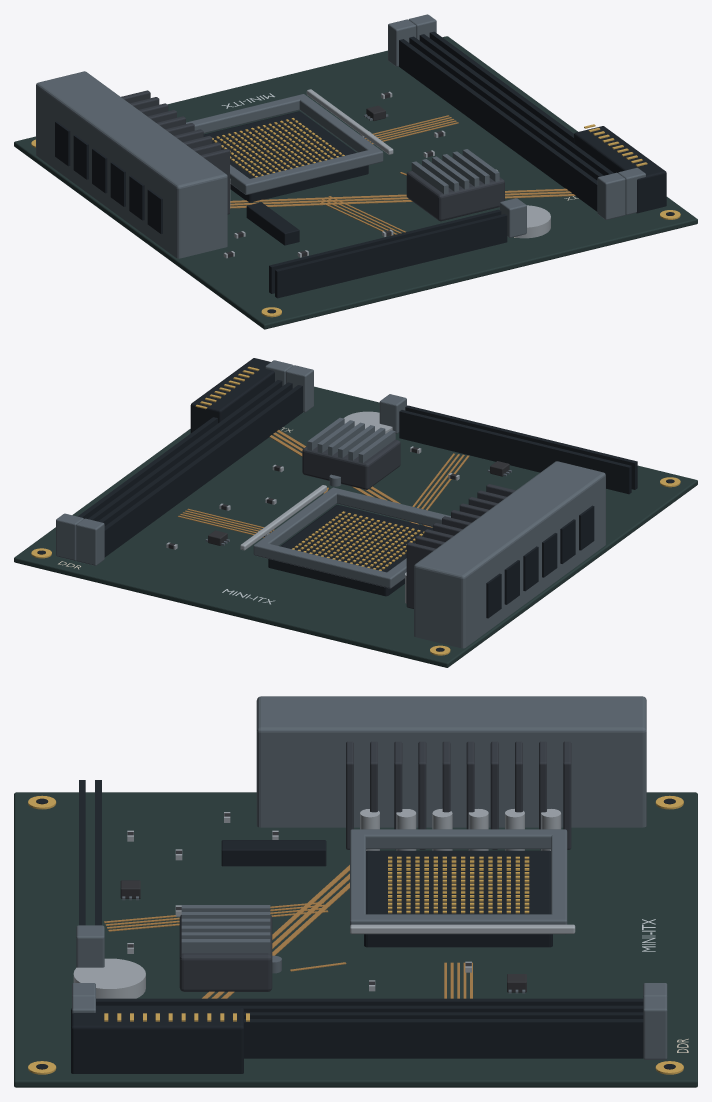
File: motherboard-mini-itx.glb
The picture shows the model from 3 angles, top to bottom: view 1: azimuth 30°, elevation 25°; view 2: azimuth 150°, elevation 25°; view 3: azimuth 270°, elevation 25°; orthographic projection. The views are drawn at different scales.
Visible parts, largest first — view 1: Motherboard_PCB_Deep_Slate, Motherboard_Plastic_Black, Motherboard_Metal_Dark_Steel, Motherboard_Paint_Graphite, Motherboard_Trace_Copper, Motherboard_Contact_Gold, Motherboard_Metal_Aluminum, Motherboard_Chip_Ceramic; view 2: Motherboard_PCB_Deep_Slate, Motherboard_Plastic_Black, Motherboard_Metal_Dark_Steel, Motherboard_Paint_Graphite, Motherboard_Contact_Gold, Motherboard_Trace_Copper, Motherboard_Metal_Aluminum, Motherboard_Chip_Ceramic; view 3: Motherboard_PCB_Deep_Slate, Motherboard_Metal_Dark_Steel, Motherboard_Plastic_Black, Motherboard_Paint_Graphite, Motherboard_Metal_Aluminum, Motherboard_Contact_Gold, Motherboard_Trace_Copper, Motherboard_Chip_Ceramic.
Part boxes in pixels (<box>): Motherboard_PCB_Deep_Slate: <box>14,36,697,329</box>; Motherboard_Plastic_Black: <box>55,31,674,313</box>; Motherboard_Metal_Dark_Steel: <box>36,14,645,258</box>; Motherboard_Paint_Graphite: <box>121,90,504,221</box>; Motherboard_Trace_Copper: <box>230,115,575,235</box>; Motherboard_Contact_Gold: <box>31,118,680,317</box>; Motherboard_Metal_Aluminum: <box>223,89,550,258</box>; Motherboard_Chip_Ceramic: <box>226,92,443,257</box>; Motherboard_PCB_Deep_Slate: <box>14,386,697,667</box>; Motherboard_Plastic_Black: <box>37,358,674,651</box>; Motherboard_Metal_Dark_Steel: <box>56,360,605,648</box>; Motherboard_Paint_Graphite: <box>302,439,515,608</box>; Motherboard_Contact_Gold: <box>31,366,680,655</box>; Motherboard_Trace_Copper: <box>177,430,469,537</box>; Motherboard_Metal_Aluminum: <box>166,411,459,603</box>; Motherboard_Chip_Ceramic: <box>168,447,509,549</box>; Motherboard_PCB_Deep_Slate: <box>14,792,697,1087</box>; Motherboard_Metal_Dark_Steel: <box>72,696,667,1059</box>; Motherboard_Plastic_Black: <box>36,780,675,1073</box>; Motherboard_Paint_Graphite: <box>179,741,571,991</box>; Motherboard_Metal_Aluminum: <box>73,809,575,998</box>; Motherboard_Contact_Gold: <box>28,795,683,1074</box>; Motherboard_Trace_Copper: <box>104,865,472,998</box>; Motherboard_Chip_Ceramic: <box>120,813,526,992</box>.
Size of the model in its own units: 0.17 by 0.029 by 0.17.
